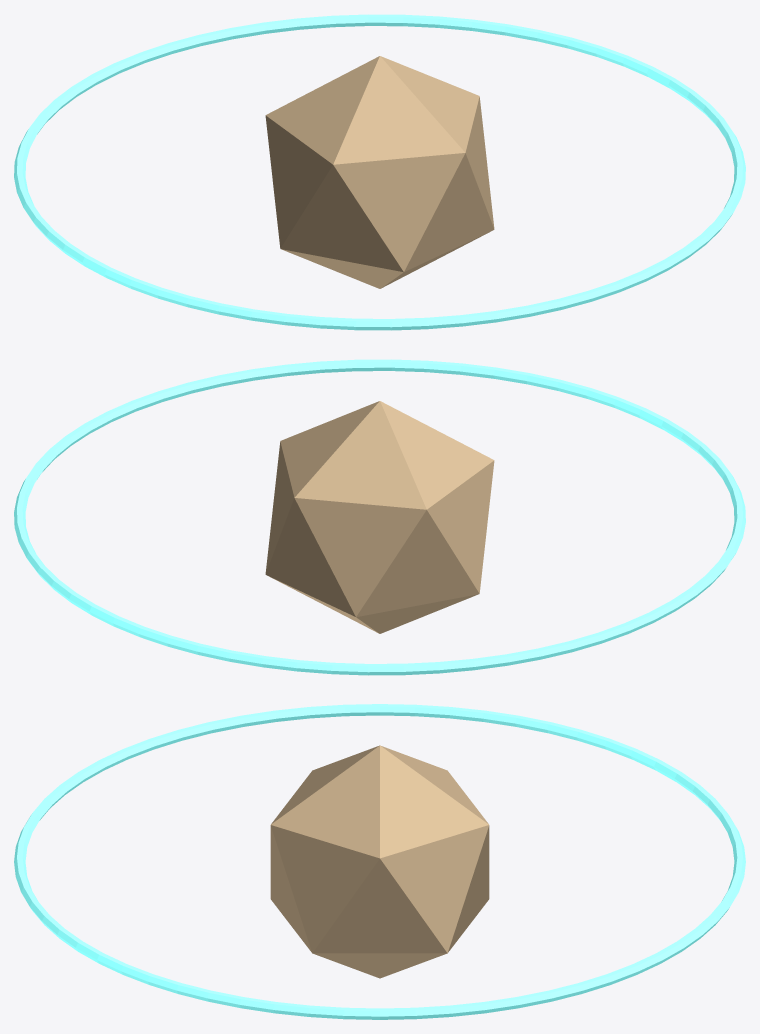
File: effects.glb
The picture shows the model from 3 angles, top to bottom: view 1: azimuth 30°, elevation 25°; view 2: azimuth 150°, elevation 25°; view 3: azimuth 270°, elevation 25°; orthographic projection.
Visible parts, largest first — view 1: DustParticle, SelectionRing; view 2: DustParticle, SelectionRing; view 3: DustParticle, SelectionRing.
Part boxes in pixels (left/top/right/bottom): DustParticle: left=265, top=56, right=494, bottom=288; SelectionRing: left=14, top=14, right=745, bottom=330; DustParticle: left=265, top=401, right=494, bottom=633; SelectionRing: left=14, top=359, right=745, bottom=675; DustParticle: left=270, top=745, right=489, bottom=978; SelectionRing: left=14, top=704, right=745, bottom=1019.
Bounding box in the file's own units: 5.69 × 2 × 5.69.
